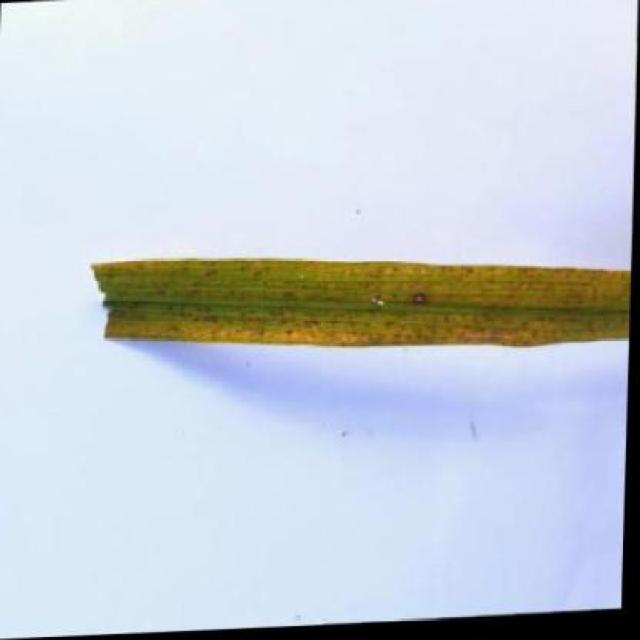Rice False Smut: (92, 260, 632, 352)
